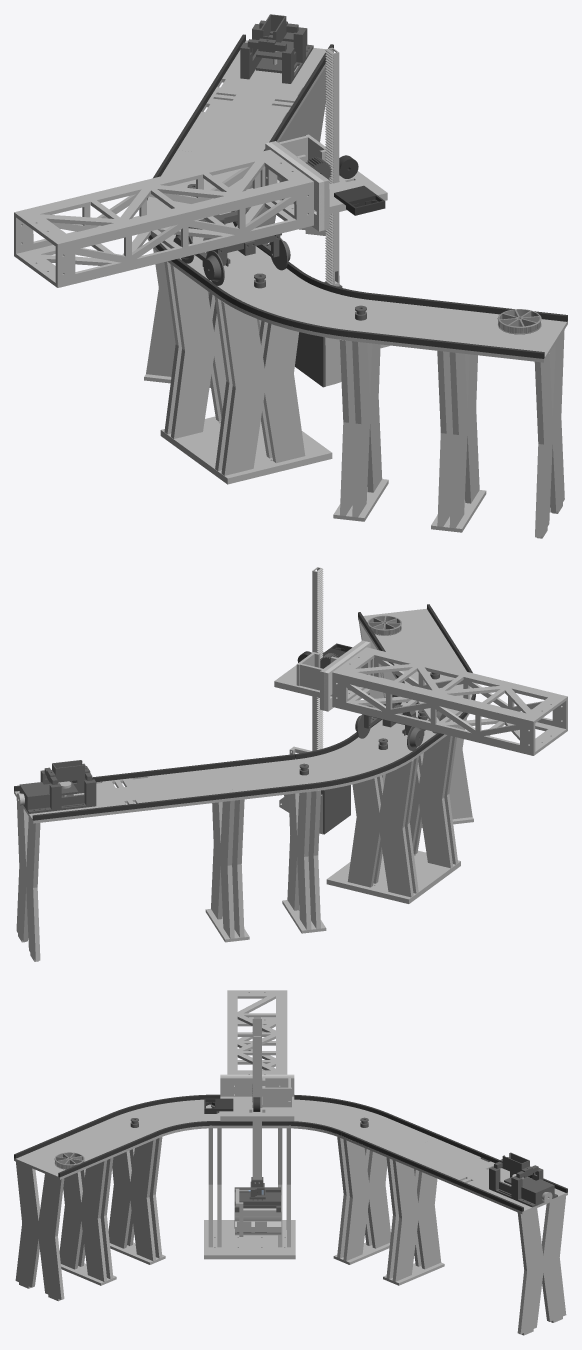
Rendered from beanbot.glb.
3 renders of one model, top to bottom at view 1: azimuth 30°, elevation 25°; view 2: azimuth 150°, elevation 25°; view 3: azimuth 270°, elevation 25°, orthographic. The views are drawn at different scales.
Visible parts, largest first — view 1: Solid1 (×35), Solid2 (×2), MeshFeature1; view 2: Solid1 (×26), Solid2 (×2), MeshFeature1; view 3: Solid1 (×32), Solid2 (×2).
Boxes of the visible parts, bbox=[...] form: Solid1 (×35): bbox=[14, 14, 567, 538]; Solid2 (×2): bbox=[325, 47, 339, 286]; MeshFeature1: bbox=[497, 309, 541, 334]; Solid1 (×26): bbox=[14, 608, 567, 961]; Solid2 (×2): bbox=[312, 567, 323, 750]; MeshFeature1: bbox=[367, 615, 401, 635]; Solid1 (×32): bbox=[14, 990, 567, 1335]; Solid2 (×2): bbox=[252, 1017, 261, 1183].
Size of the model in its own units: 0.8422 by 0.6075 by 1.2.
6 materials, 1 textured.
